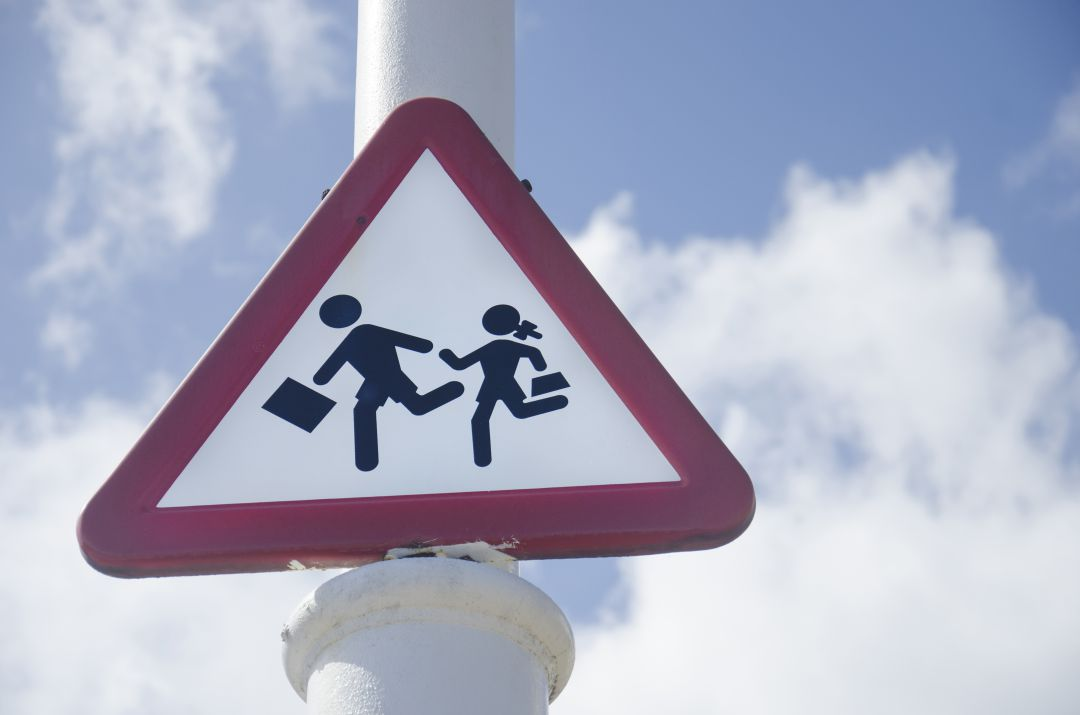Cartel: (93, 100, 763, 567)
Poste: (317, 1, 539, 715)
